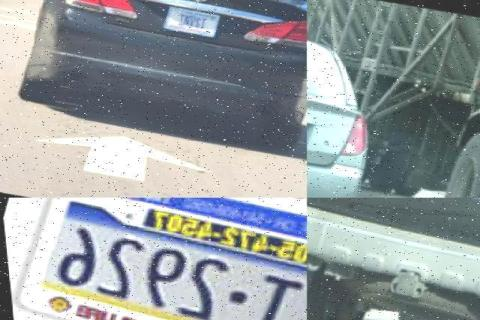LicensePlate: (25, 217, 307, 320), (98, 198, 308, 260), (409, 198, 480, 225), (159, 5, 217, 37), (306, 116, 334, 150)
